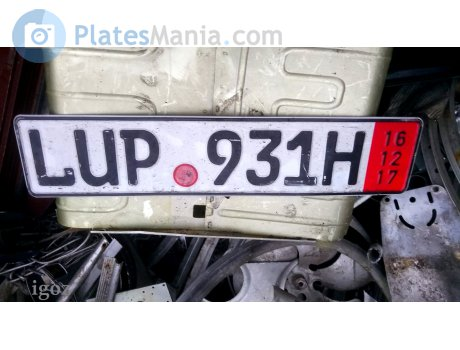License Plates: (33, 118, 365, 188)
